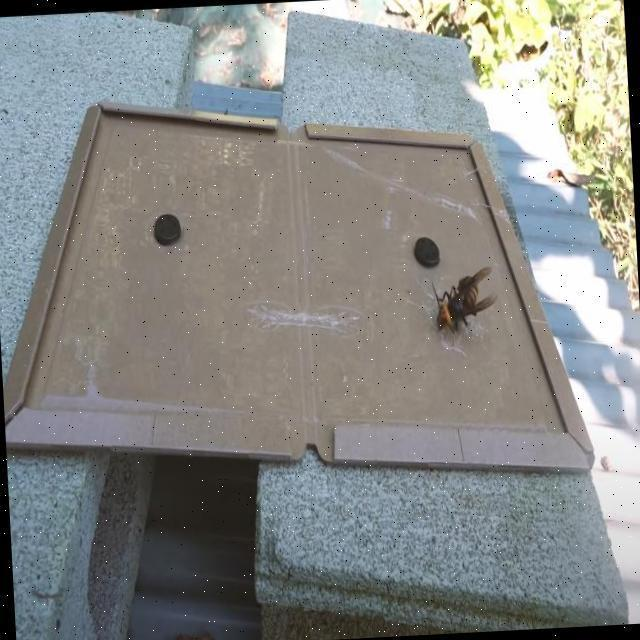Wasp: (435, 264, 500, 332)
